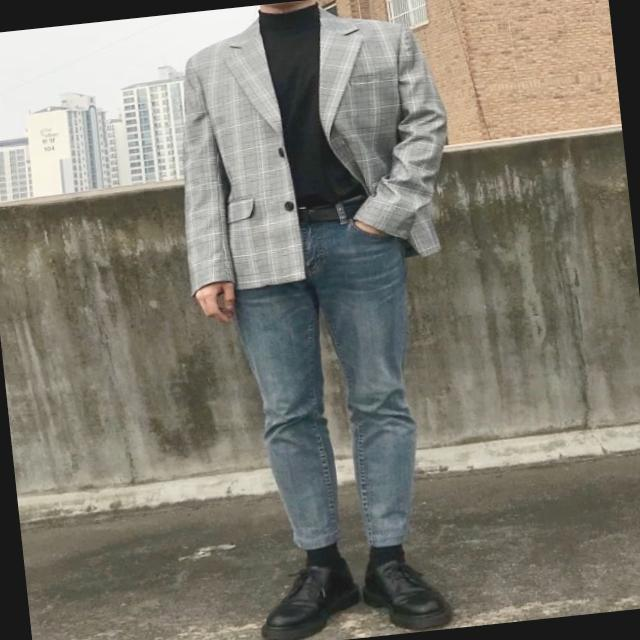blazer: (158, 0, 460, 294)
denimpants: (222, 190, 434, 559)
